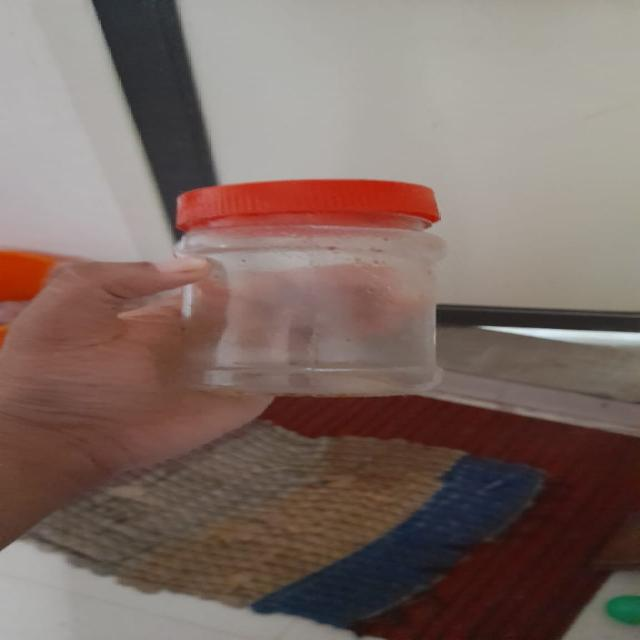Plastic - Recyclable: (168, 178, 449, 398)
